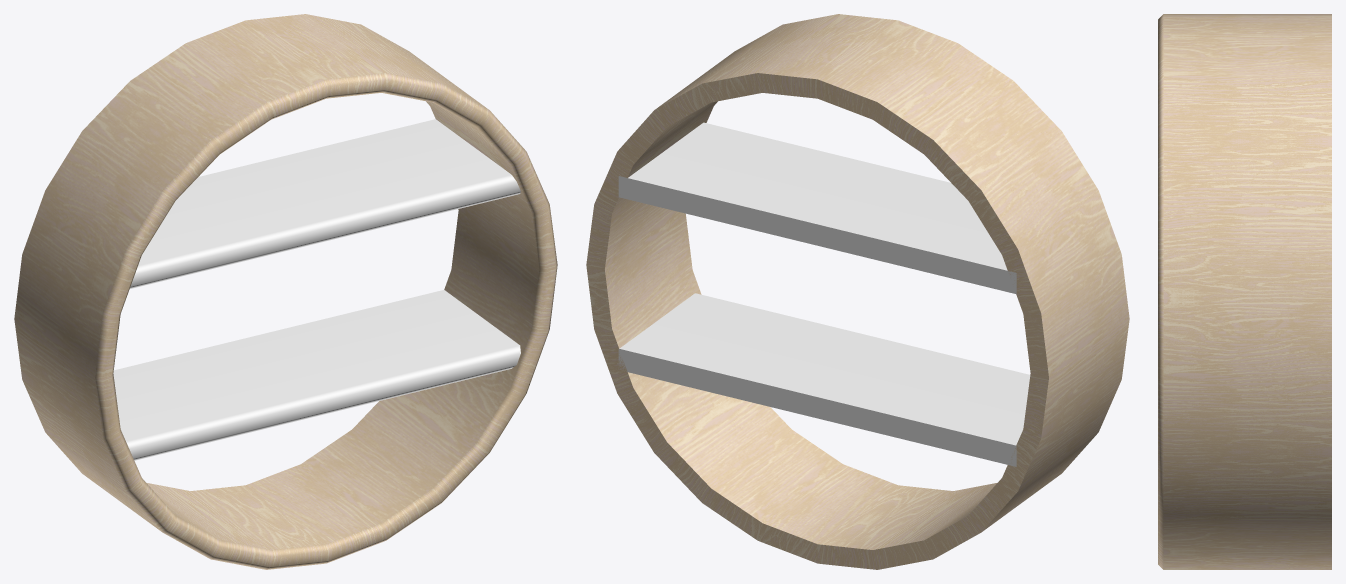
File: shelf_017.fbx
3 views of the same model, side by side, from view 1: azimuth 30°, elevation 25°; view 2: azimuth 150°, elevation 25°; view 3: azimuth 270°, elevation 25° (orthographic). The views are drawn at different scales.
Parts seen in each view (by area): view 1: shelf_017; view 2: shelf_017; view 3: shelf_017.
Part boxes in pixels (x1=…): shelf_017: x1=14, y1=14, x2=557, y2=569; shelf_017: x1=586, y1=14, x2=1129, y2=569; shelf_017: x1=1158, y1=14, x2=1331, y2=569.
Bounding box in the file's own units: 161 × 50.12 × 161.
